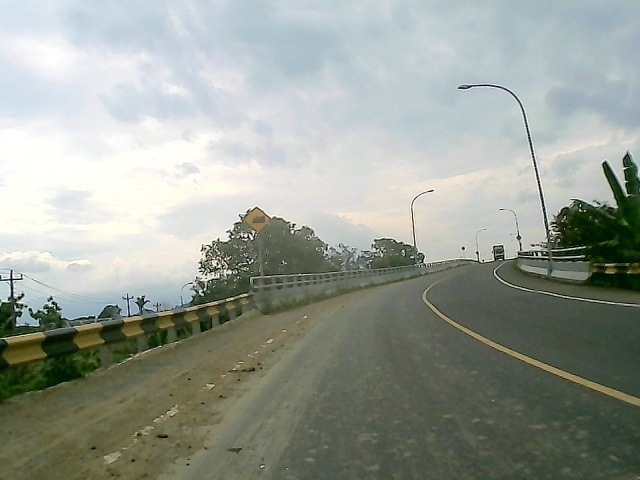Jalanan menanjak: (240, 204, 271, 234)
